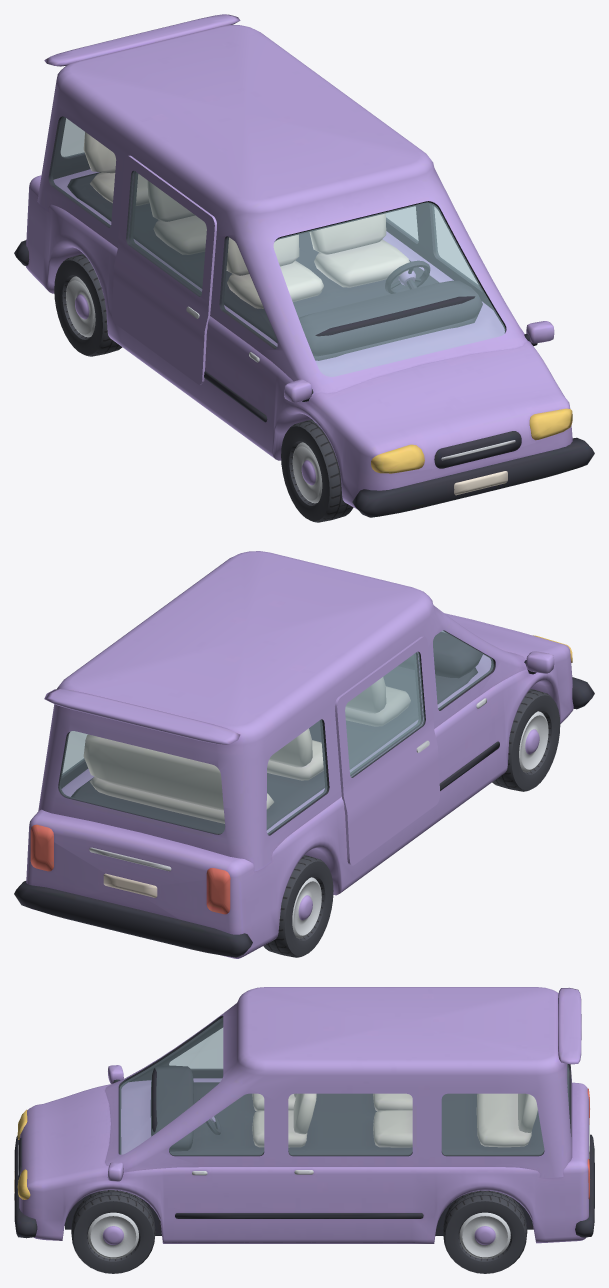
The model's file is minivan.glb.
3 views of the same model, one above another, from view 1: azimuth 30°, elevation 25°; view 2: azimuth 150°, elevation 25°; view 3: azimuth 270°, elevation 25° (orthographic). The views are drawn at different scales.
Visible parts, largest first — view 1: minivan_body, minivan_windows, minivan_sliding_door, minivan_wheel_fr, minivan_wheel_rr; view 2: minivan_body, minivan_windows, minivan_sliding_door, minivan_wheel_rr, minivan_wheel_fr; view 3: minivan_body, minivan_windows, minivan_wheel_fl, minivan_wheel_rl.
Boxes of the visible parts, box(x1,y1,x2,y2) form: minivan_body: box(14, 14, 594, 517); minivan_windows: box(51, 116, 505, 376); minivan_sliding_door: box(112, 155, 216, 384); minivan_wheel_fr: box(281, 419, 353, 522); minivan_wheel_rr: box(54, 254, 122, 356); minivan_body: box(14, 551, 594, 958); minivan_windows: box(59, 630, 493, 834); minivan_sliding_door: box(335, 636, 439, 865); minivan_wheel_rr: box(263, 855, 333, 957); minivan_wheel_fr: box(492, 689, 560, 791); minivan_body: box(14, 987, 594, 1243); minivan_windows: box(120, 1017, 568, 1154); minivan_wheel_fl: box(71, 1190, 155, 1273); minivan_wheel_rl: box(443, 1190, 527, 1273).
Bounding box in the file's own units: 2.09 × 1.89 × 4.81.
22 materials, 5 textured.
